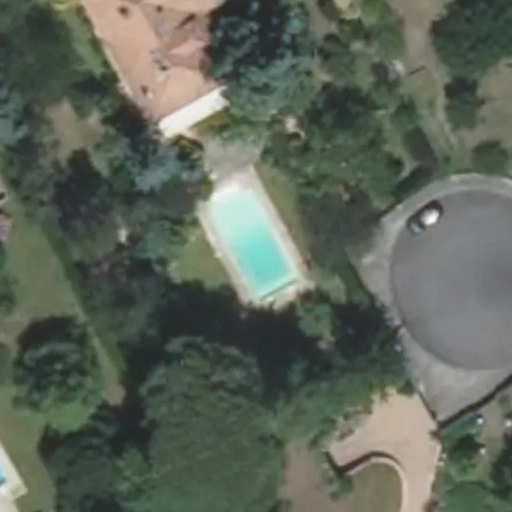pool: (204, 201, 301, 279)
